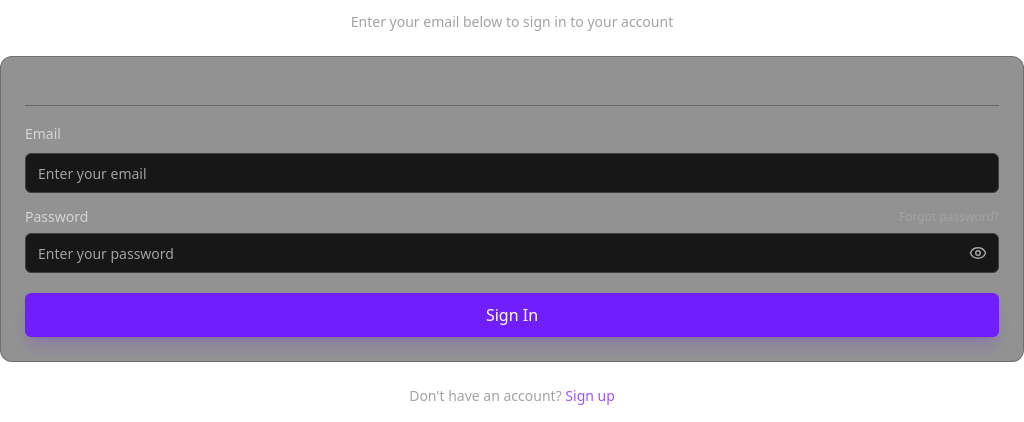
Scenario: LoginPage › Form Interaction › should show loading state during form submission
The image size is (1024, 422).
In the field with placeholder "Enter your email": point(512, 173) x1=25 y1=153 x2=999 y2=193, type "test@example.com"
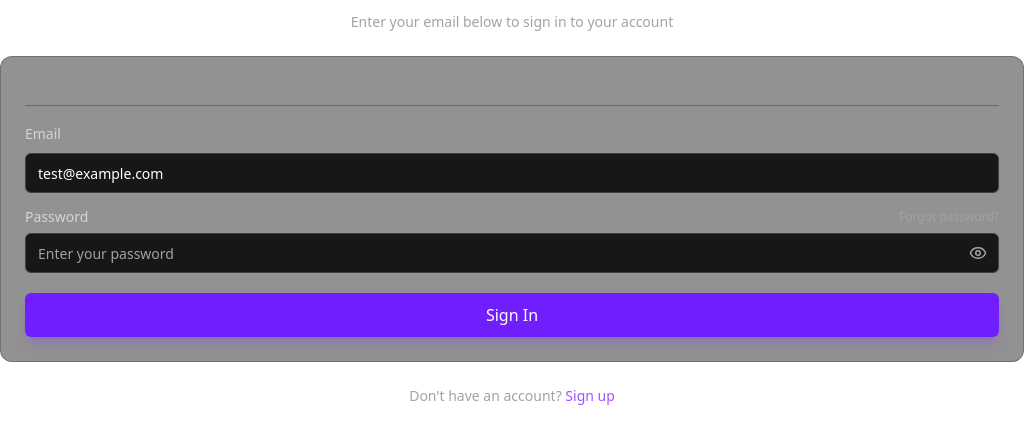
In the password field with placeholder "Enter your password": point(512, 253) x1=25 y1=233 x2=999 y2=273, type "password123"
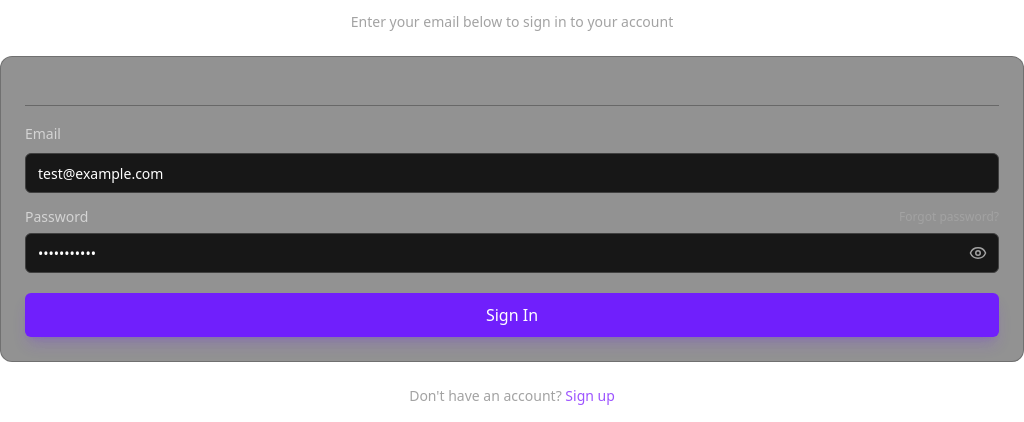
Click the button "Sign In": point(512, 315) x1=25 y1=293 x2=999 y2=337
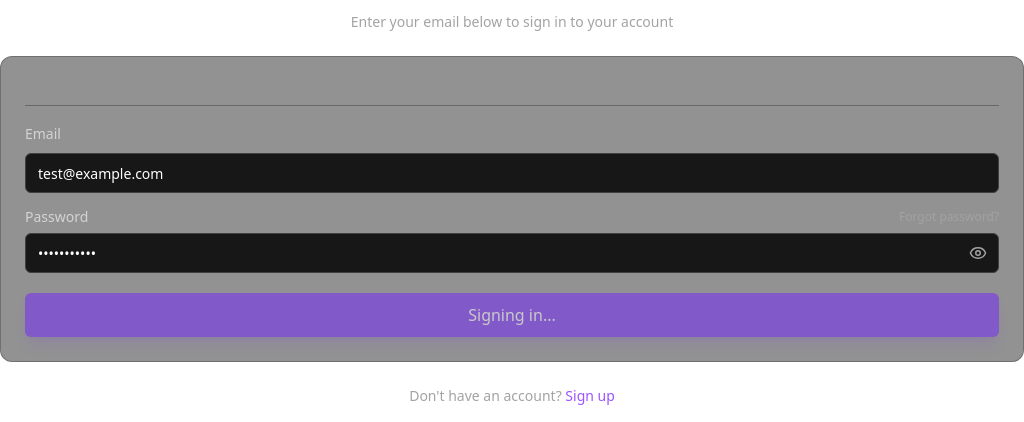
Now the button "Signing in..." is disabled, box x1=25 y1=293 x2=999 y2=337
